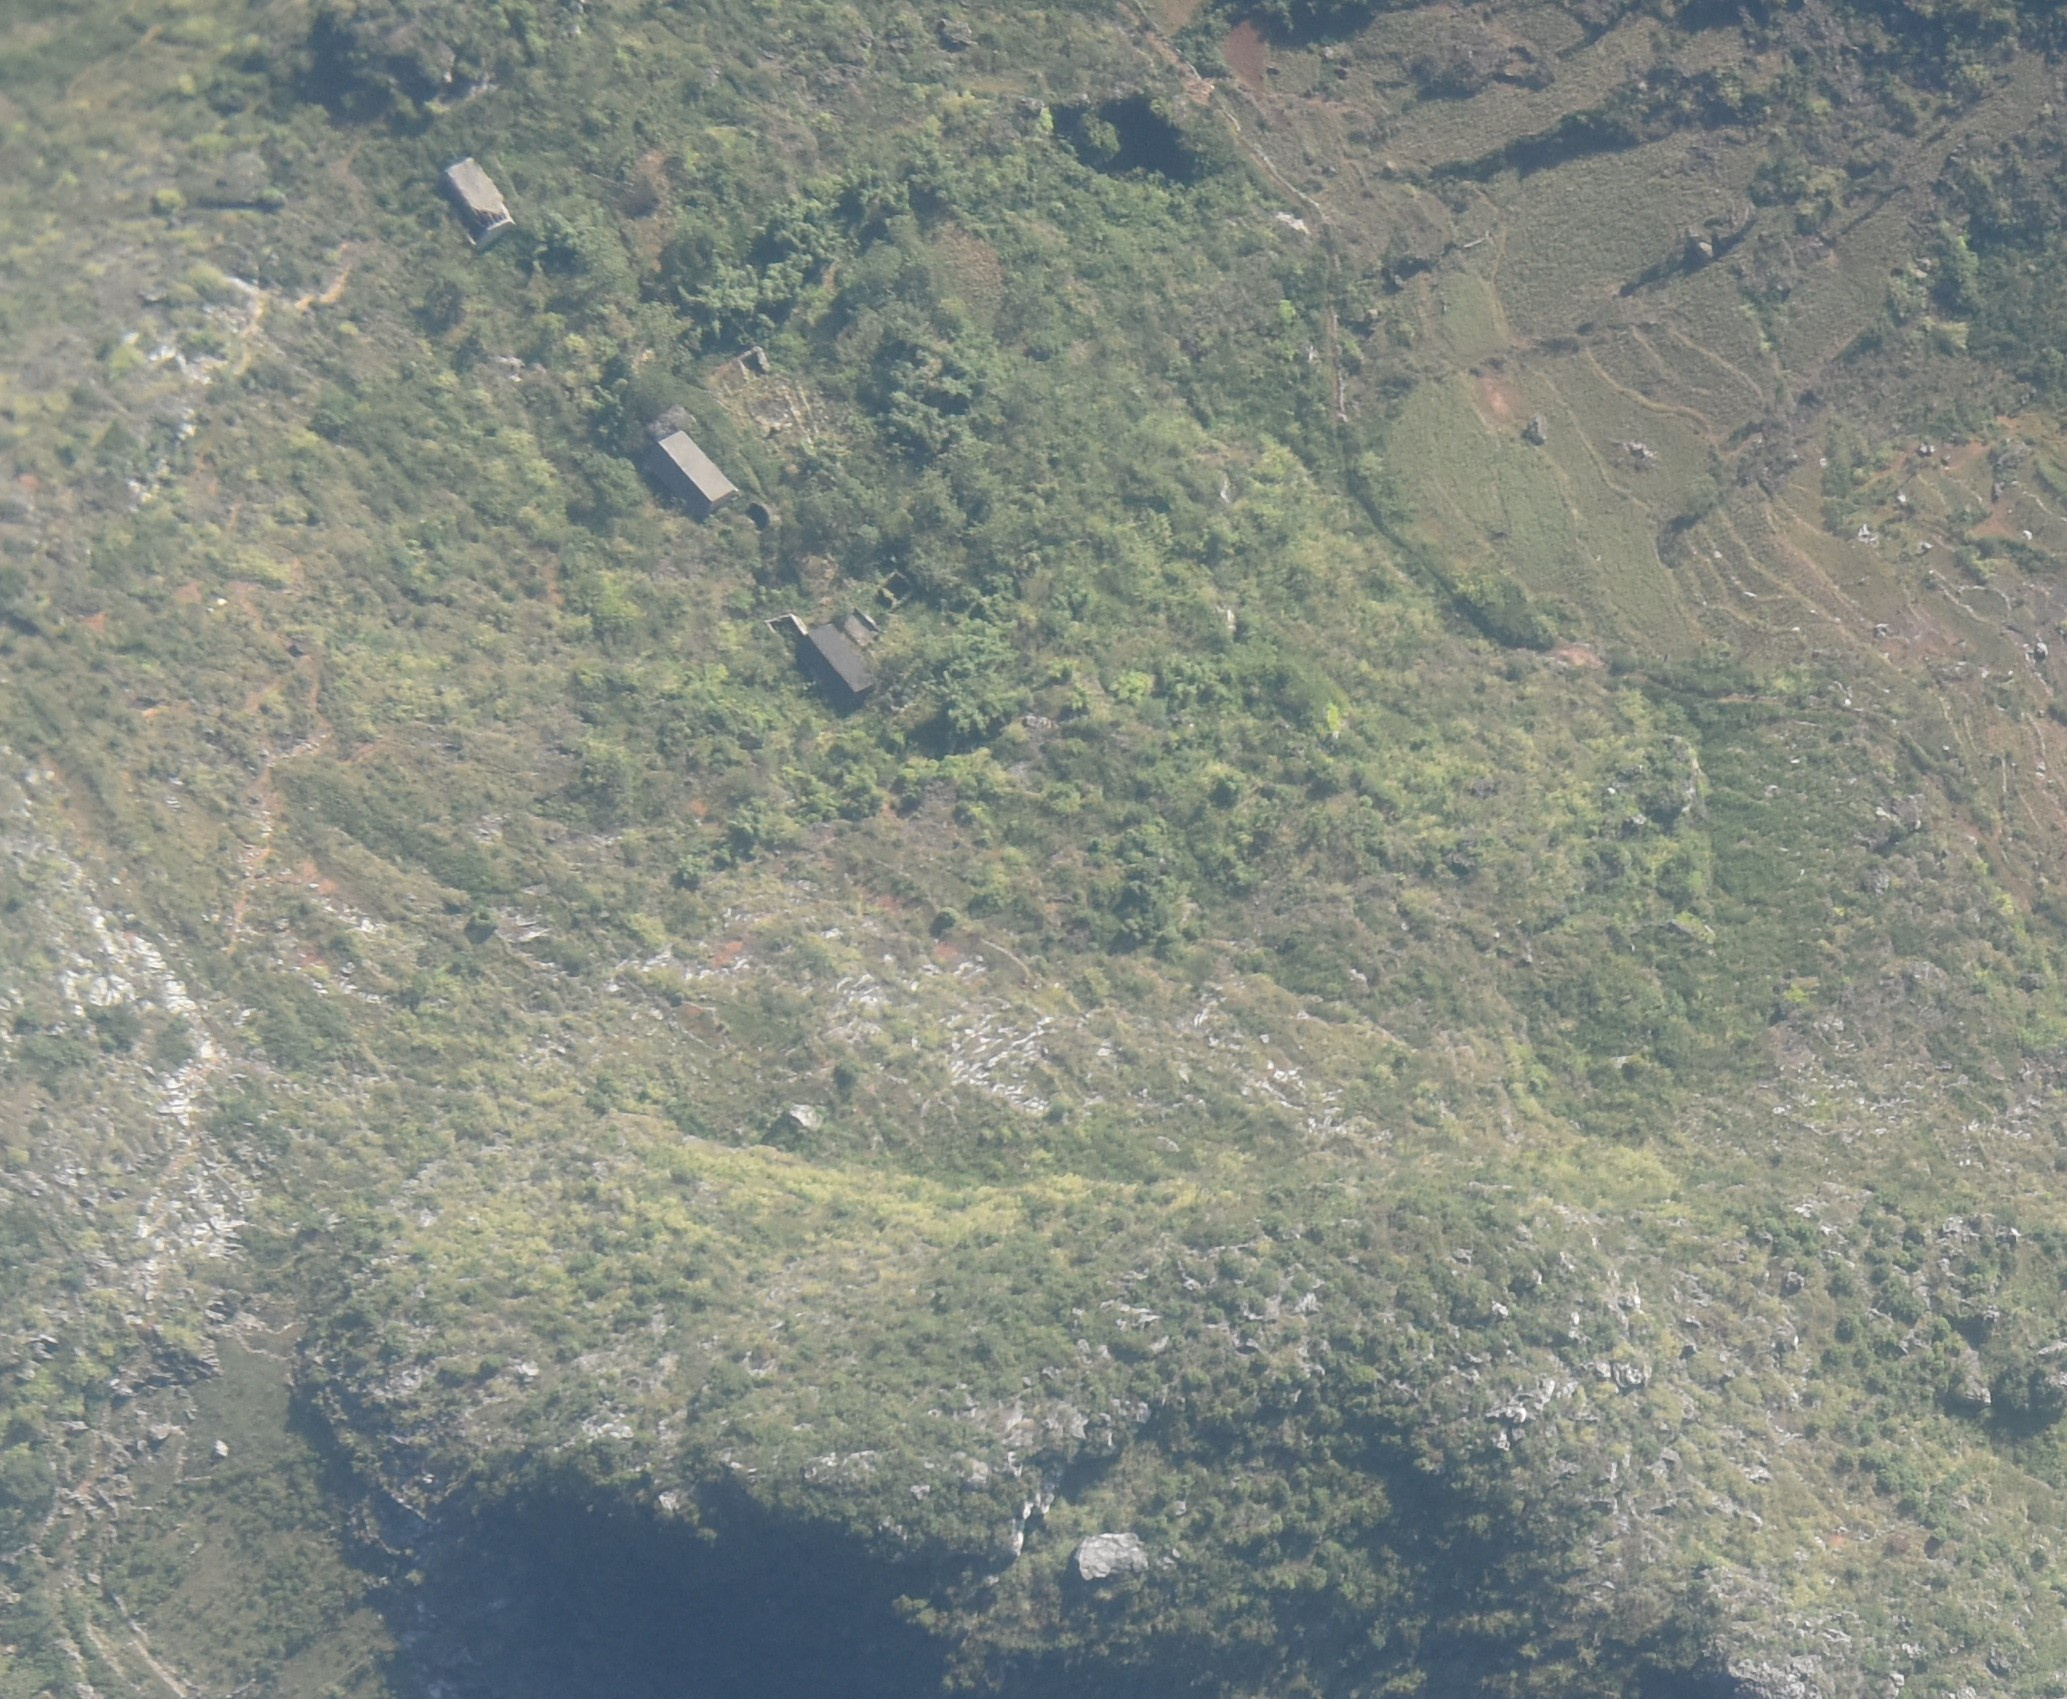building: (441, 156, 513, 247), (656, 431, 735, 505), (805, 625, 876, 698)
